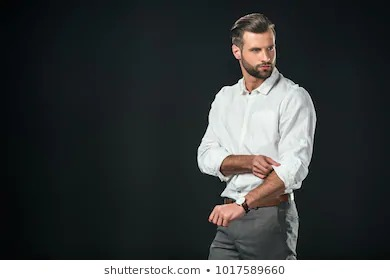F_shirt: (192, 69, 314, 197)
